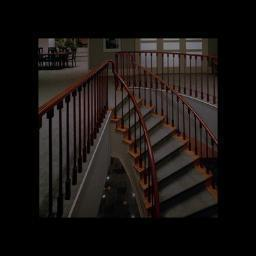Escaleras: (111, 94, 217, 216)
